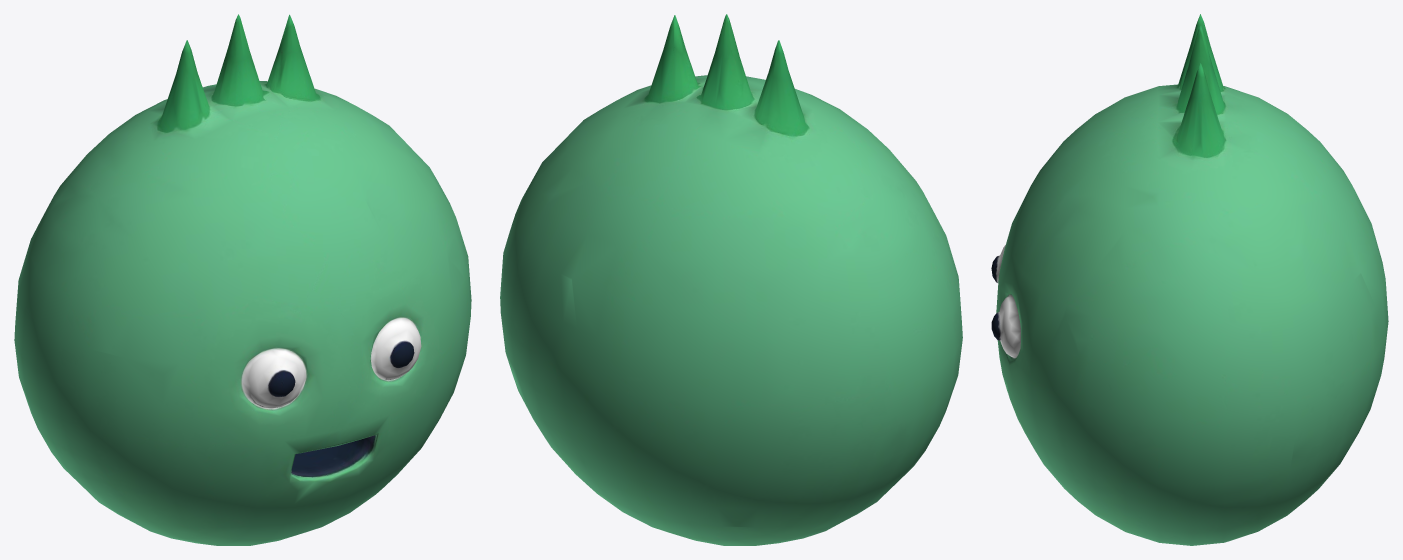
File: spike_3d.glb
The picture shows the model from 3 angles, left to right: view 1: azimuth 30°, elevation 25°; view 2: azimuth 150°, elevation 25°; view 3: azimuth 270°, elevation 25°; orthographic projection. The views are drawn at different scales.
Visible parts, largest first — view 1: tripo_node_a7522586-22aa-428d-bc3d-3daa95390eff; view 2: tripo_node_a7522586-22aa-428d-bc3d-3daa95390eff; view 3: tripo_node_a7522586-22aa-428d-bc3d-3daa95390eff.
Part boxes in pixels (left/top/right/bottom): tripo_node_a7522586-22aa-428d-bc3d-3daa95390eff: left=14, top=14, right=471, bottom=545; tripo_node_a7522586-22aa-428d-bc3d-3daa95390eff: left=500, top=14, right=962, bottom=545; tripo_node_a7522586-22aa-428d-bc3d-3daa95390eff: left=991, top=14, right=1388, bottom=545.
Size of the model in its own units: 0.8419 by 1 by 0.7199.
1 material, 1 textured.
